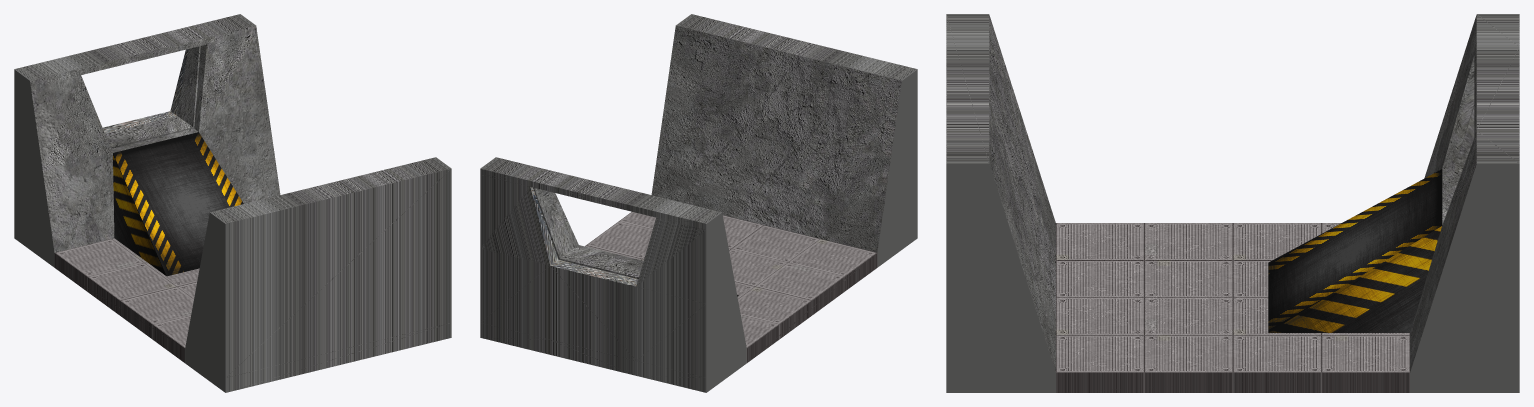
Rendered from Сorridor Vent.fbx.
3 renders of one model, left to right at view 1: azimuth 30°, elevation 25°; view 2: azimuth 150°, elevation 25°; view 3: azimuth 270°, elevation 25°, orthographic. The views are drawn at different scales.
Visible parts, largest first — view 1: Сorridor Vent; view 2: Сorridor Vent; view 3: Сorridor Vent.
Part boxes in pixels (x1=…): Сorridor Vent: x1=14, y1=14, x2=451, y2=392; Сorridor Vent: x1=480, y1=14, x2=917, y2=392; Сorridor Vent: x1=946, y1=14, x2=1519, y2=392.
Size of the model in its own units: 443 by 317 by 717.
